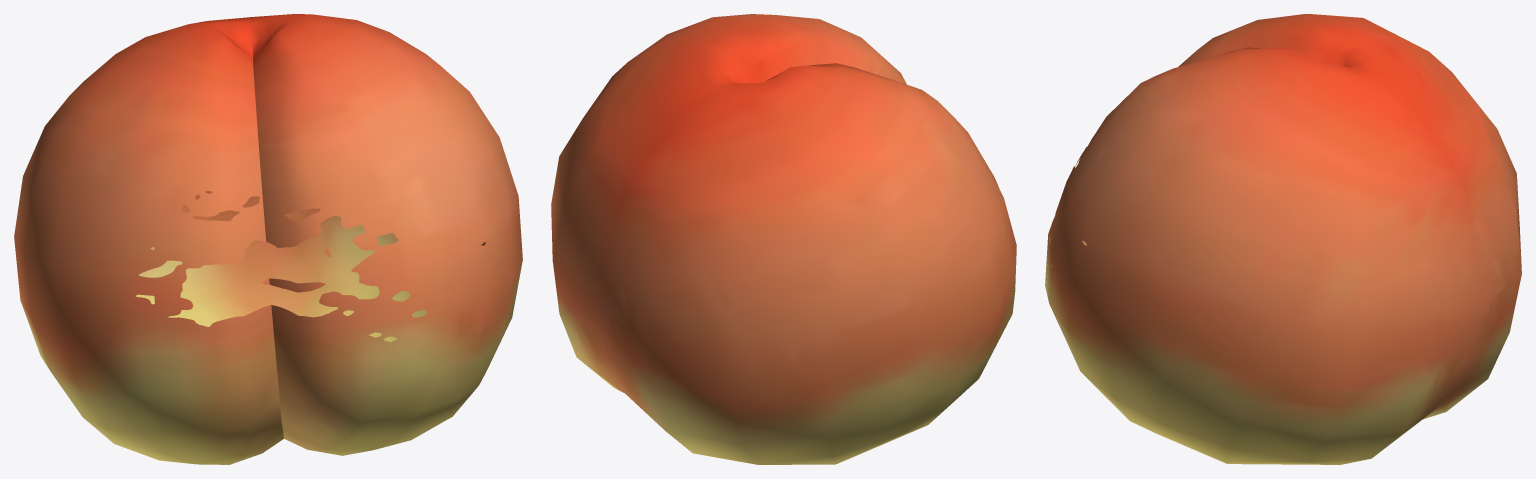
The model's file is fruit-peach.glb.
3 views of the same model, side by side, from view 1: azimuth 30°, elevation 25°; view 2: azimuth 150°, elevation 25°; view 3: azimuth 270°, elevation 25° (orthographic). The views are drawn at different scales.
Bounding box in the file's own units: 4.17 × 3.72 × 4.09.
1 material, 1 textured.
